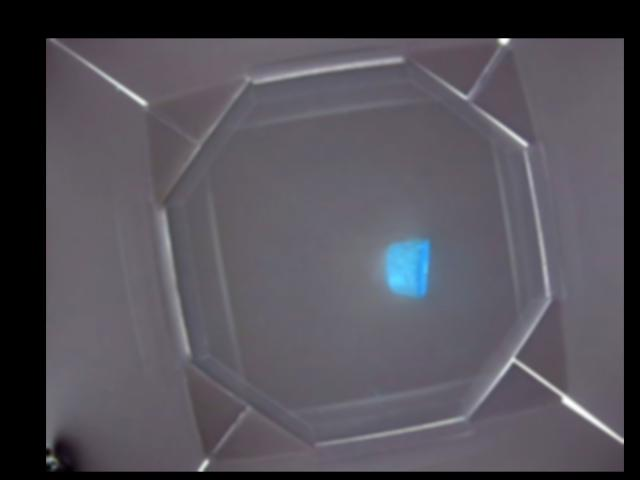Carrot: (386, 239, 431, 297)
